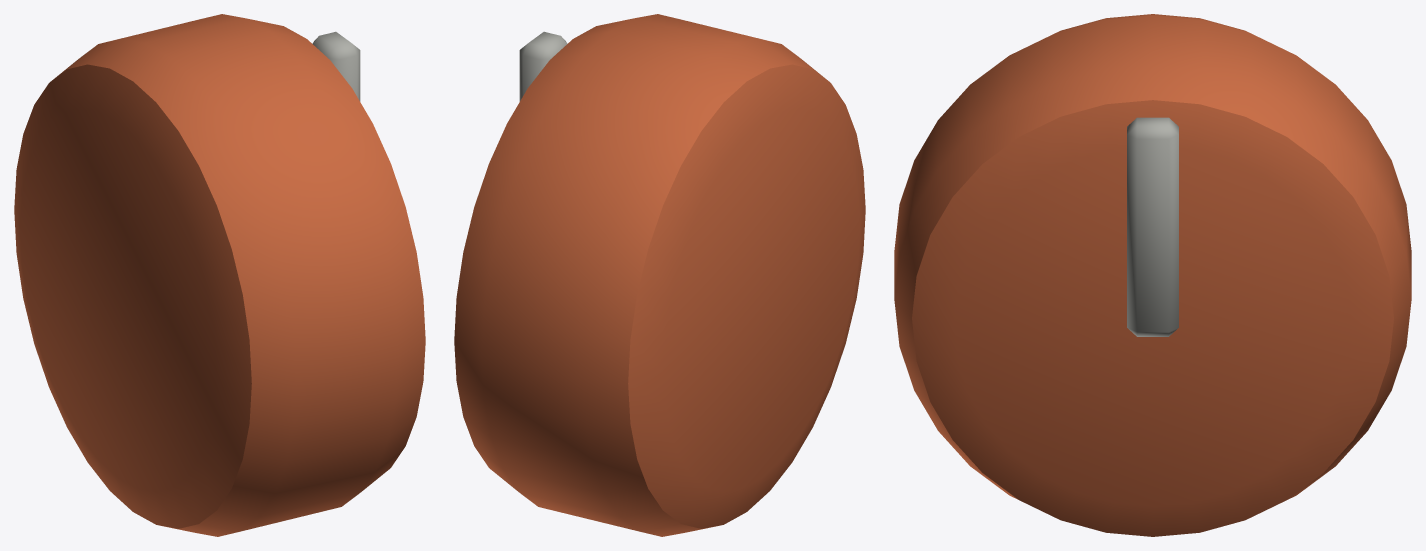
File: tape_gun_tension_knob.glb
3 renders of one model, left to right at view 1: azimuth 30°, elevation 25°; view 2: azimuth 150°, elevation 25°; view 3: azimuth 270°, elevation 25°, orthographic.
Visible parts, largest first — view 1: tape_gun_tension_knob; view 2: tape_gun_tension_knob; view 3: tape_gun_tension_knob.
Part boxes in pixels (x1,y1,x2,y2): tape_gun_tension_knob: [14, 14, 425, 536]; tape_gun_tension_knob: [454, 14, 865, 536]; tape_gun_tension_knob: [894, 14, 1411, 536].
Bounding box in the file's own units: 0.0138 × 0.026 × 0.026.
